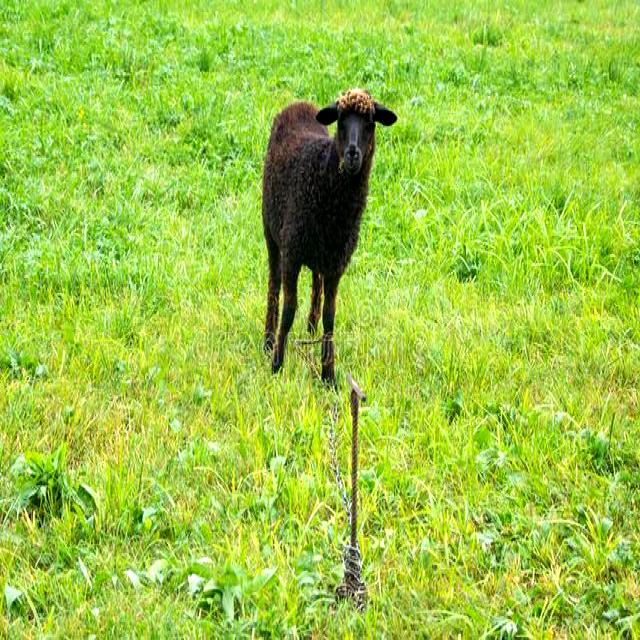sheep: (261, 89, 397, 392)
